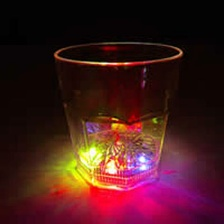glass: (50, 33, 190, 197)
